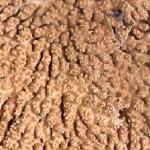alive: (5, 2, 146, 147)
